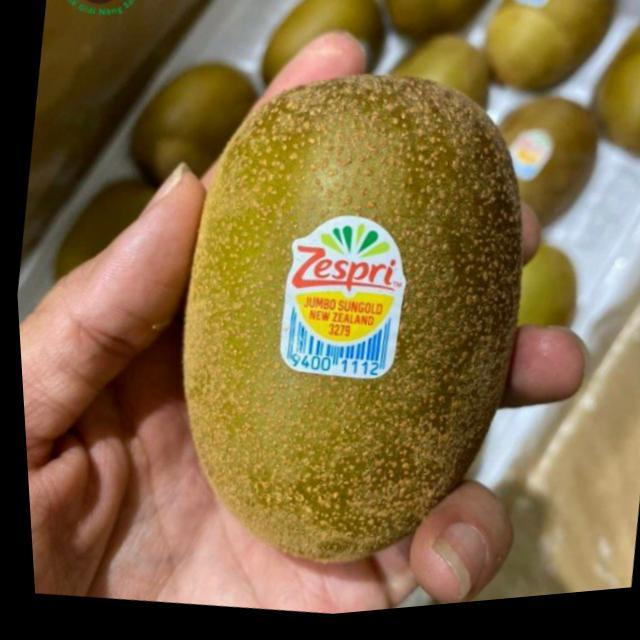kiwi: (108, 39, 561, 616)
